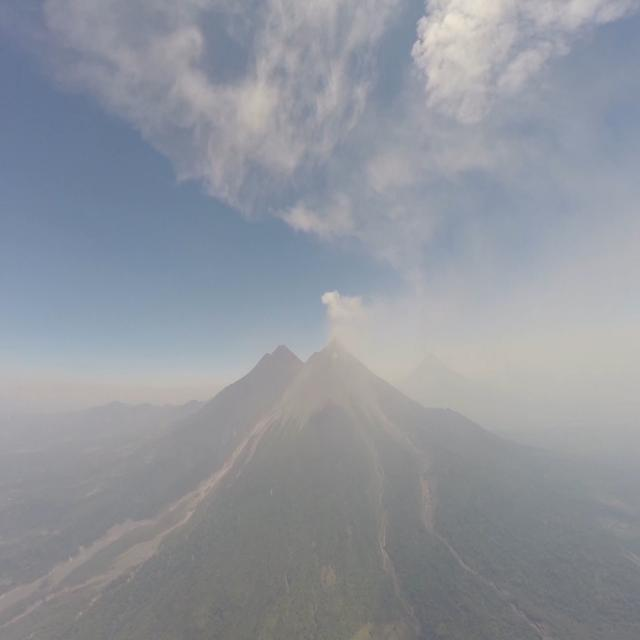Plume: (320, 287, 370, 349)
Summit: (317, 339, 355, 356)
